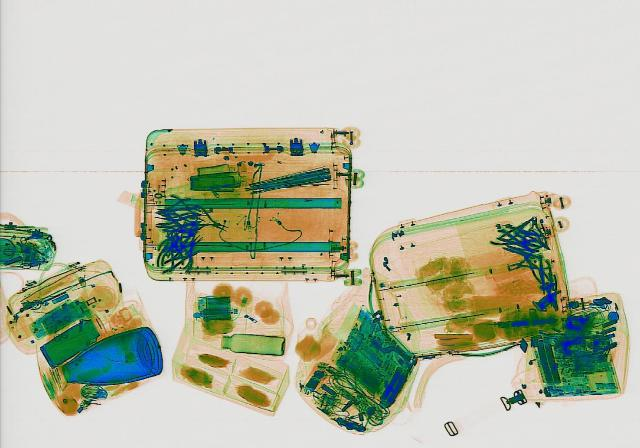Pliers: (499, 244, 559, 278), (178, 204, 234, 236), (152, 246, 206, 272)
